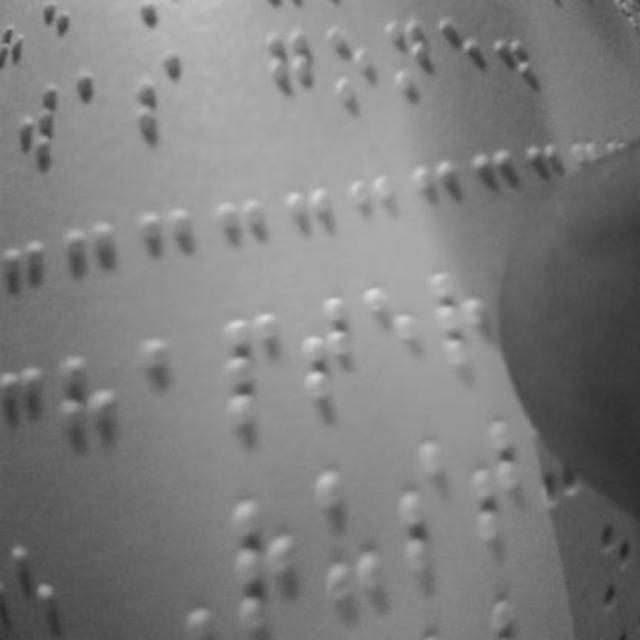braiile: (313, 451, 391, 603), (229, 492, 305, 640), (393, 428, 463, 584), (54, 348, 122, 488), (214, 304, 282, 436), (471, 412, 532, 558), (436, 260, 504, 390), (364, 276, 428, 412), (299, 288, 365, 417), (1, 350, 64, 480), (136, 328, 198, 454), (9, 67, 69, 179), (130, 37, 186, 155), (262, 20, 316, 126), (326, 22, 380, 120), (72, 61, 118, 168), (382, 10, 430, 111), (438, 11, 482, 101)
